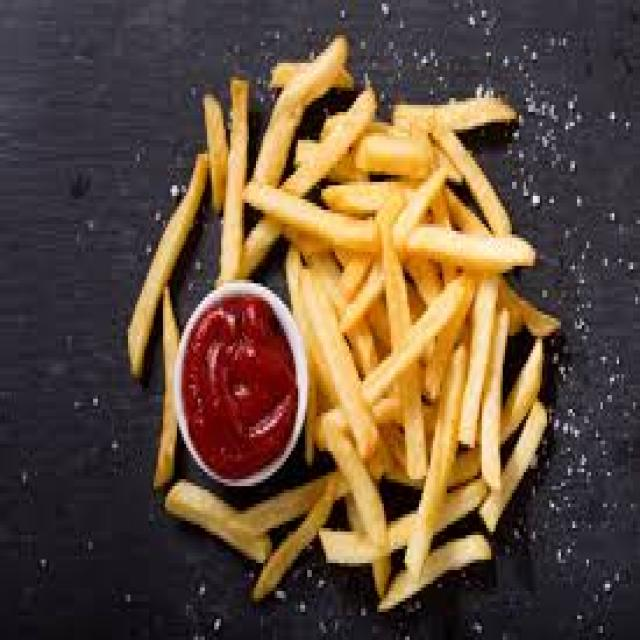감자튀김: (126, 35, 561, 612)
